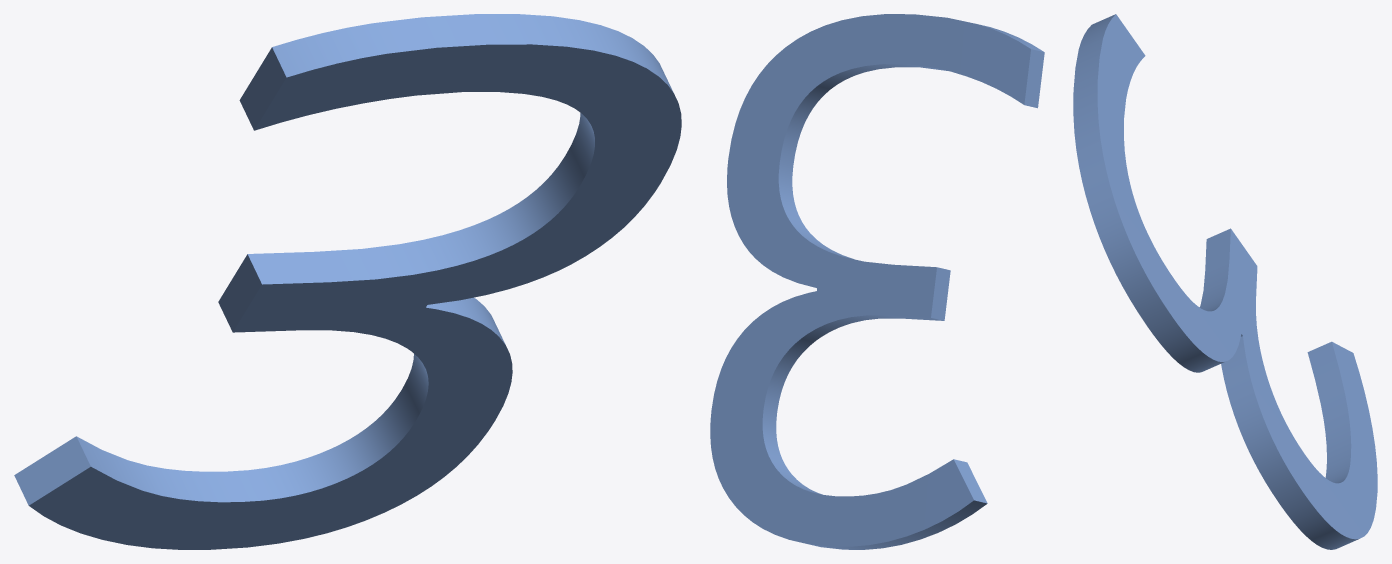
The model's file is New_Number_3.gltf.
The picture shows the model from 3 angles, left to right: view 1: azimuth 30°, elevation 25°; view 2: azimuth 150°, elevation 25°; view 3: azimuth 270°, elevation 25°; orthographic projection. The views are drawn at different scales.
Visible parts, largest first — view 1: Part 570; view 2: Part 570; view 3: Part 570.
Part boxes in pixels (x1,y1,x2,y2): Part 570: [14, 14, 681, 549]; Part 570: [710, 14, 1044, 549]; Part 570: [1073, 14, 1377, 549].
Size of the model in its own units: 0.00373 by 0.00472 by 0.00281.
